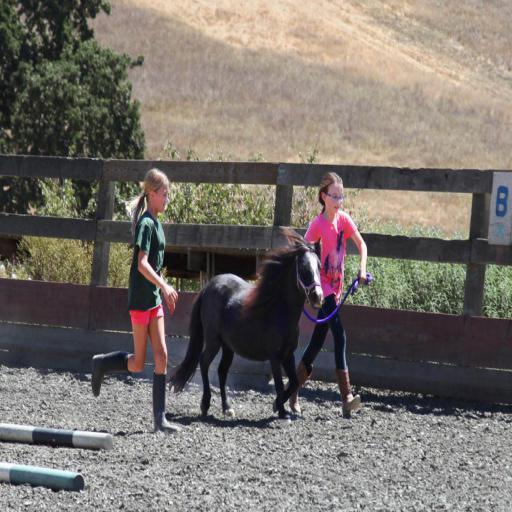horse: (165, 226, 326, 418)
